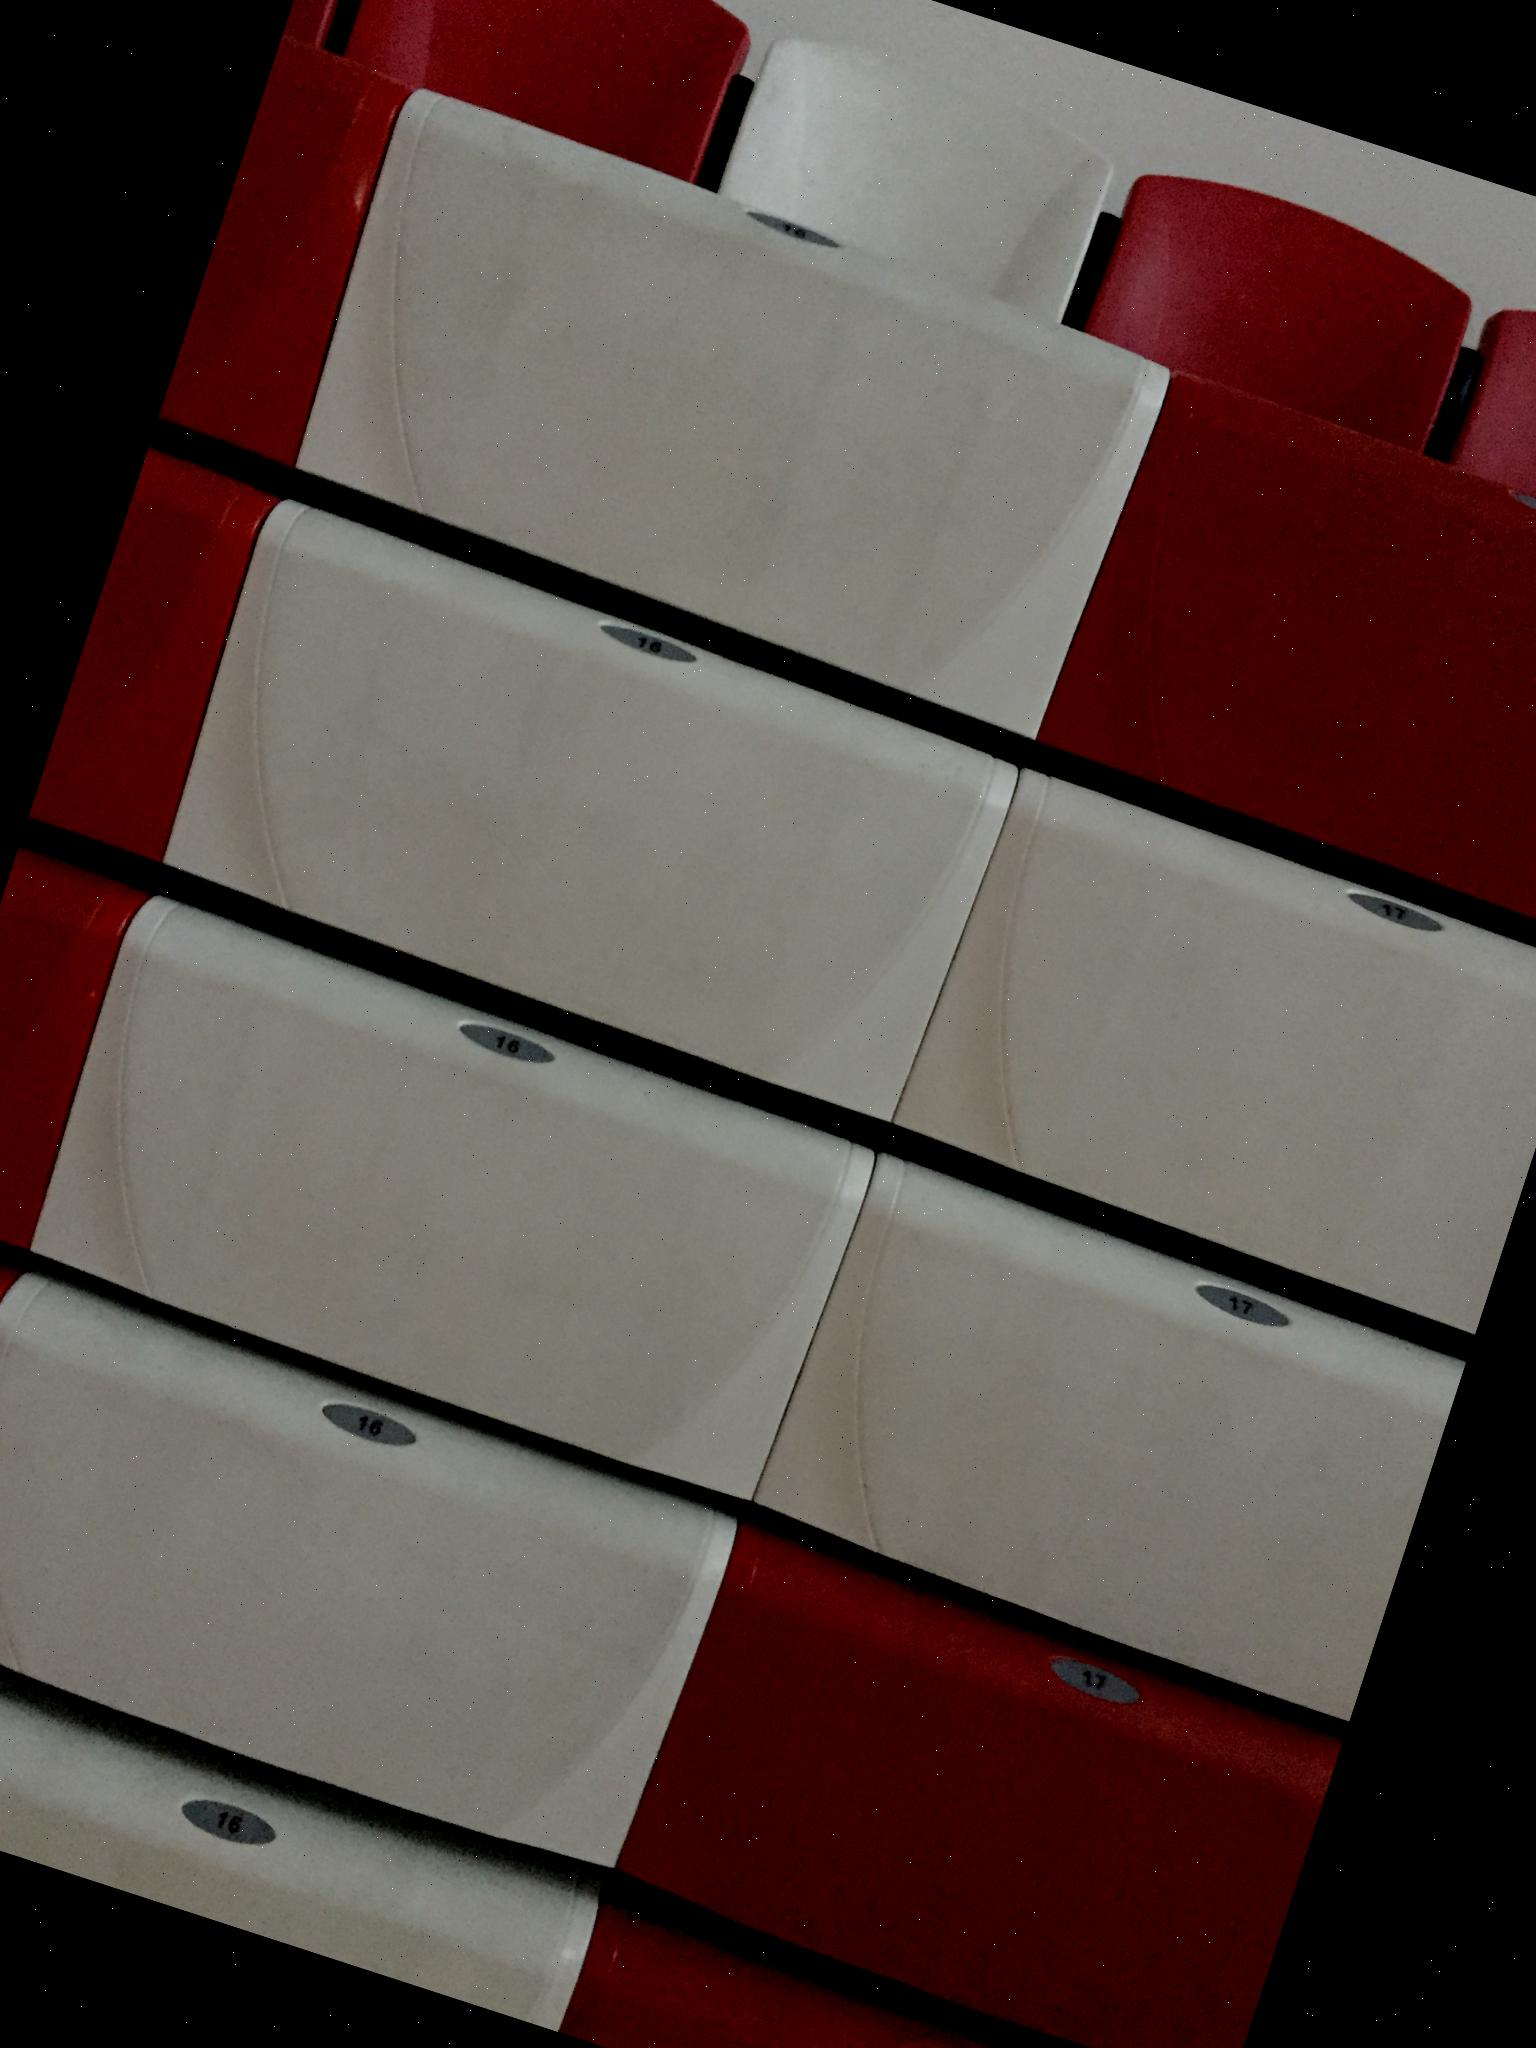chair: (710, 16, 1128, 326), (1076, 152, 1488, 455), (337, 0, 766, 185), (1434, 285, 1536, 564), (282, 0, 397, 53)
